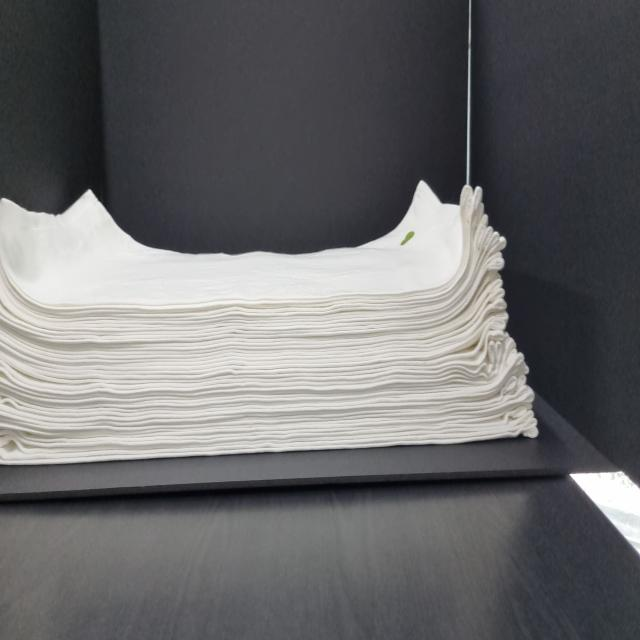not_50count_towel: (2, 175, 552, 471)
